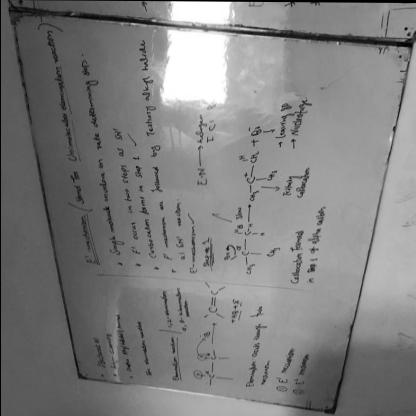Handwritten text: (75, 53, 126, 263), (128, 33, 172, 256), (38, 25, 87, 208), (108, 128, 141, 249), (128, 162, 157, 267)
Whiteboard: (0, 8, 409, 416)
